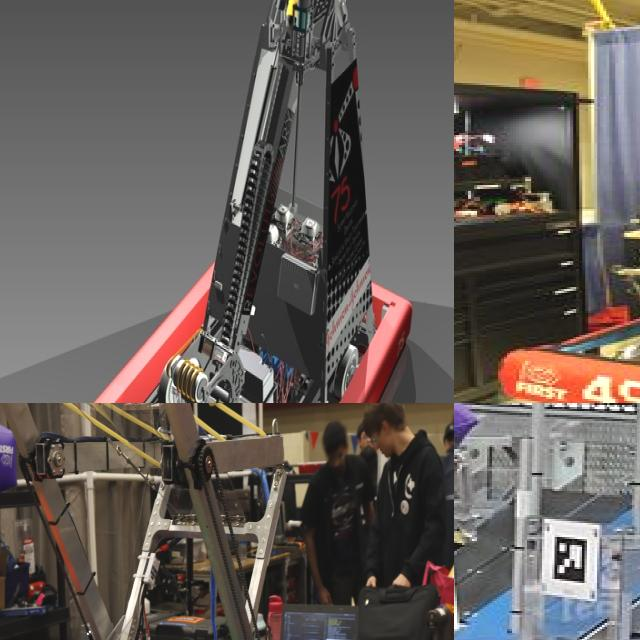FRC-Robots: (76, 0, 404, 403), (0, 403, 285, 640), (488, 0, 640, 403), (454, 403, 620, 640)
